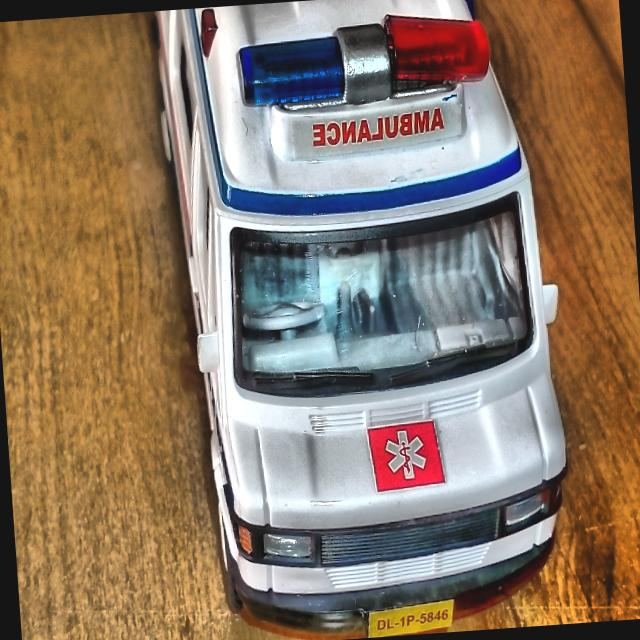Ambulance: (156, 0, 580, 640)
